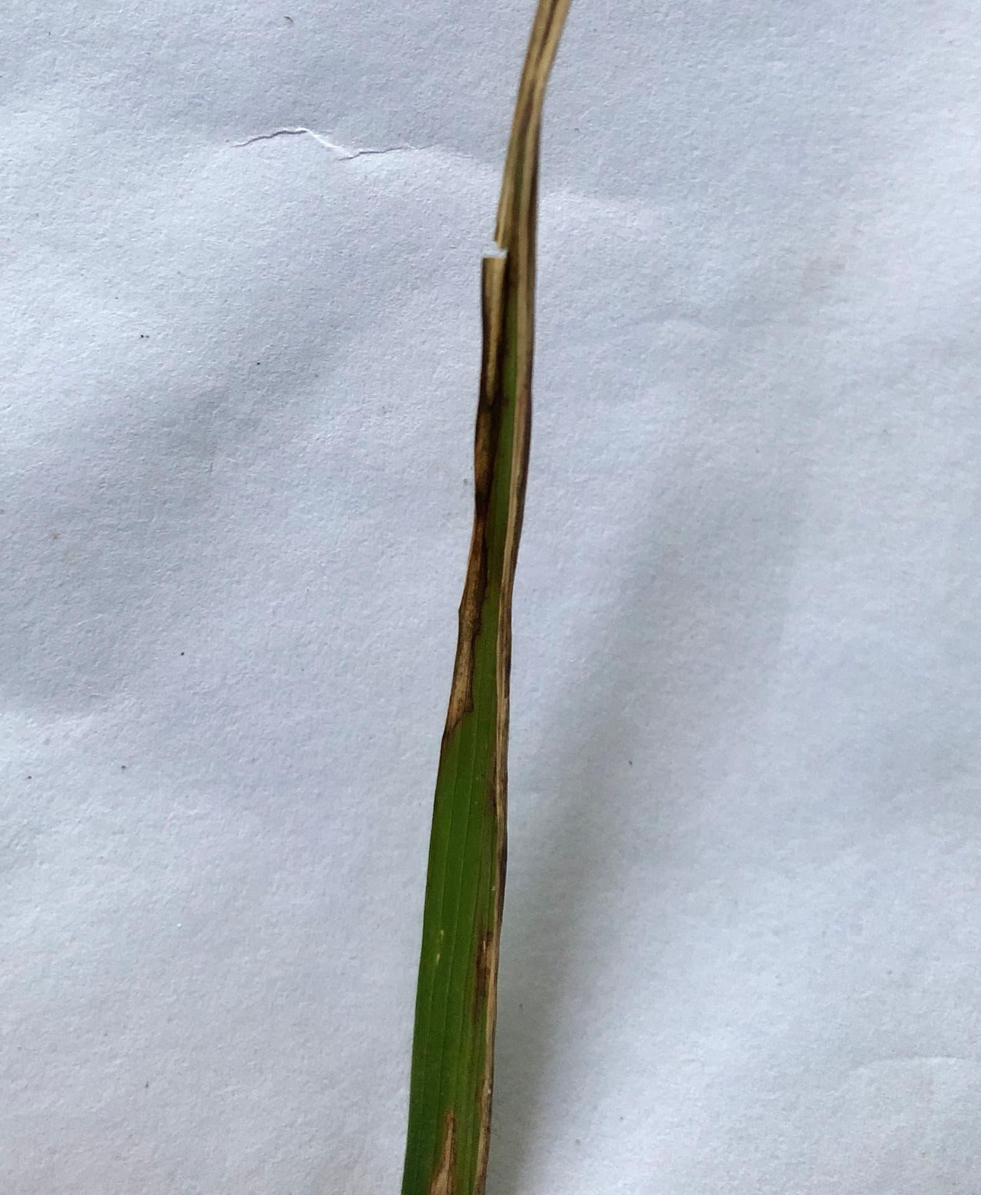Leaf Blight: (445, 1, 571, 1182), (430, 1107, 456, 1194)
